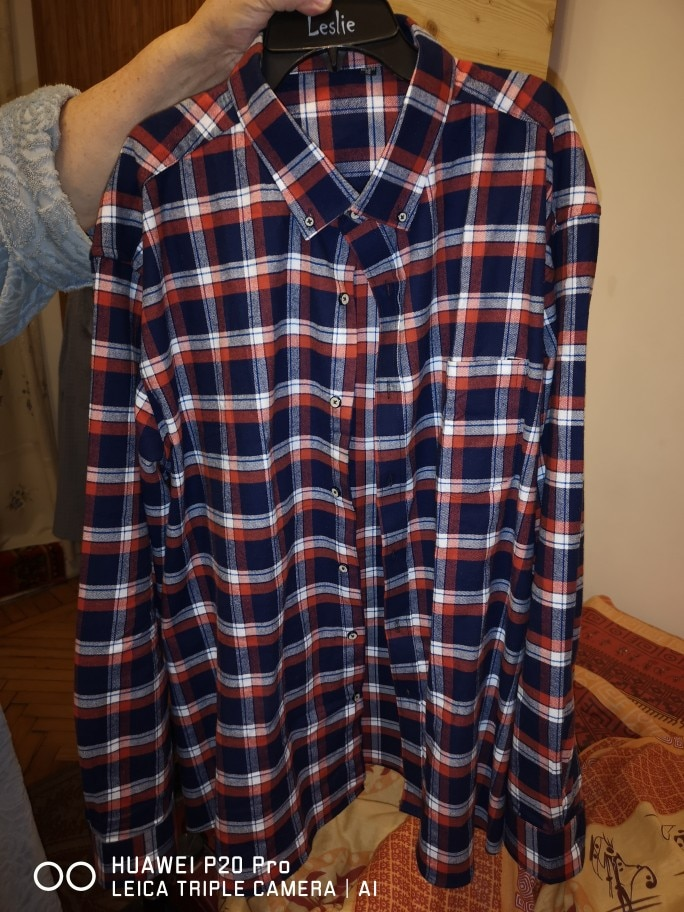shirts: (74, 43, 599, 889)
